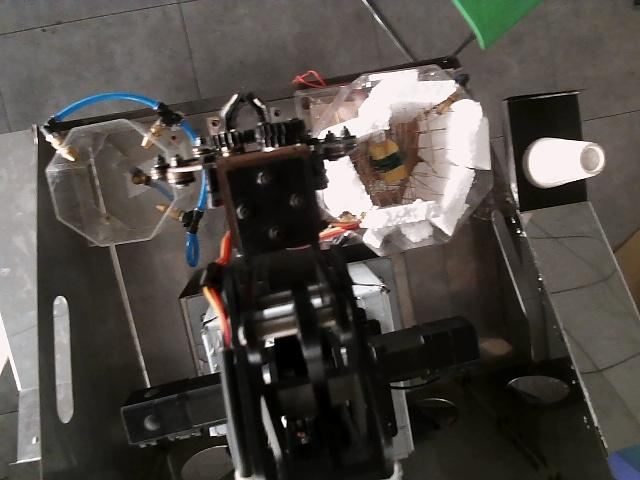cup: (522, 136, 606, 189)
